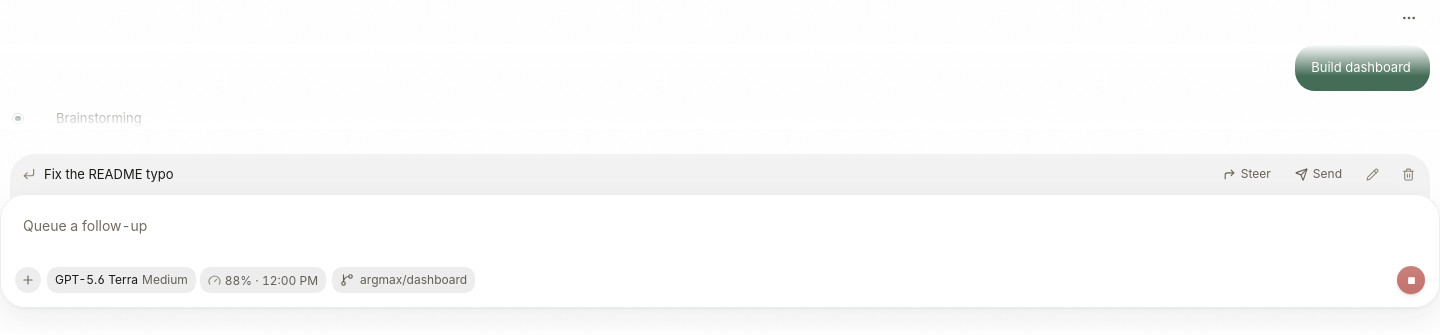
SessionComposer queued follow-up editing › leaves the picker alone when a legacy row is edited
This screenshot has width=1440, height=335.
Click the button named "Edit queued follow-up: Fix the README typo".
click(1372, 174)  # box top-left (1358, 160), bottom-right (1386, 188)
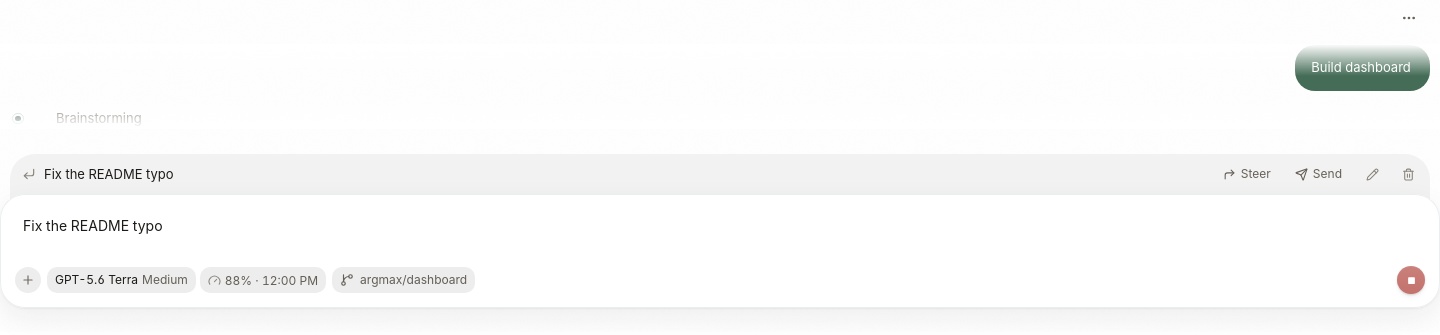
Expected: the button with aria-label "Chat model" reads "GPT-5.6 Terra", top-left (47, 269), bottom-right (140, 292)
Now the text box named "Chat prompt" holds "Fix the README typo", box top-left (15, 207), bottom-right (1425, 259)
